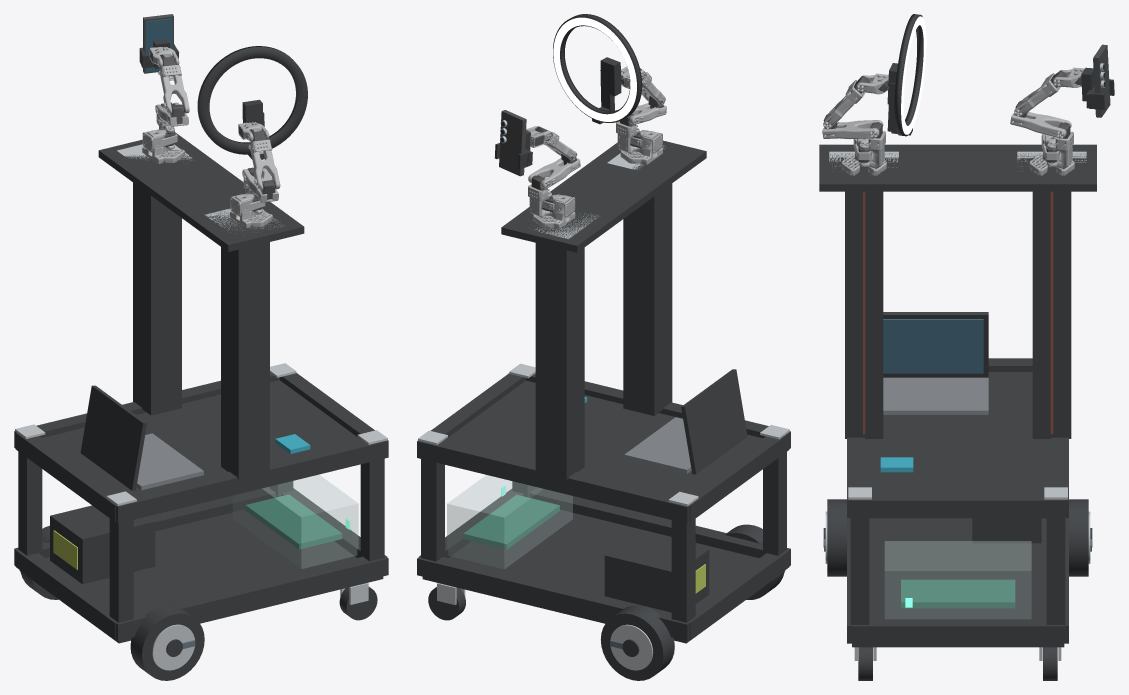
The model's file is take-one-ring.glb.
3 renders of one model, left to right at view 1: azimuth 30°, elevation 25°; view 2: azimuth 150°, elevation 25°; view 3: azimuth 270°, elevation 25°, orthographic. The views are drawn at different scales.
Parts seen in each view (by area): view 1: cart_box, upright_rear, upright_front, cart_work_deck, cart_deck, electronics_box, frame_side_0.25_0.49, frame_side_0.25_0.15, battery, laptop_lid, light_payload, frame_end_-0.39_0.15 (+19 smaller); view 2: upright_front, cart_work_deck, upright_rear, cart_box, cart_deck, electronics_box, frame_side_-0.25_0.49, frame_side_-0.25_0.15, battery, laptop_lid, frame_side_0.25_0.15, frame_end_-0.39_0.49 (+20 smaller); view 3: cart_work_deck, cart_box, electronics_box, cart_deck, upright_front, upright_rear, laptop_screen, frame_end_0.39_0.49, frame_end_0.39_0.15, laptop_keyboard, electronics_board, corner_leg_-0.24_0.38 (+25 smaller).
Part boxes in pixels (x1,y1,x2,y2): cart_box: (19,509,383,643); upright_rear: (221,242,269,479); upright_front: (133,182,181,415); cart_work_deck: (42,380,360,495); cart_deck: (98,132,304,251); electronics_box: (233,475,358,568); frame_side_0.25_0.49: (110,439,388,523); frame_side_0.25_0.15: (115,556,388,640); battery: (50,505,155,584); laptop_lid: (80,385,146,490); light_payload: (197,46,307,154); frame_end_-0.39_0.15: (15,550,117,639); upright_front: (535,243,584,479); cart_work_deck: (445,380,762,495); upright_rear: (623,183,672,415); cart_box: (422,510,785,643); cart_deck: (501,140,706,252); electronics_box: (447,475,572,568); frame_side_-0.25_0.49: (417,440,689,523); frame_side_-0.25_0.15: (417,556,695,641); battery: (604,532,709,612); laptop_lid: (681,369,747,474); frame_side_0.25_0.15: (529,487,790,566); frame_end_-0.39_0.49: (688,433,789,522); cart_work_deck: (865,372,1051,492); cart_box: (852,518,1064,647); electronics_box: (885,541,1031,618); cart_deck: (819,144,1096,191); upright_front: (1032,191,1071,438); upright_rear: (845,191,883,438); laptop_screen: (883,319,983,373); frame_end_0.39_0.49: (852,493,1064,518); frame_end_0.39_0.15: (852,618,1064,643); laptop_keyboard: (883,377,988,414); electronics_board: (901,579,1015,608); corner_leg_-0.24_0.38: (1046,518,1065,624).
Bounding box in the file's own units: 0.824 × 1.66 × 0.7237.
